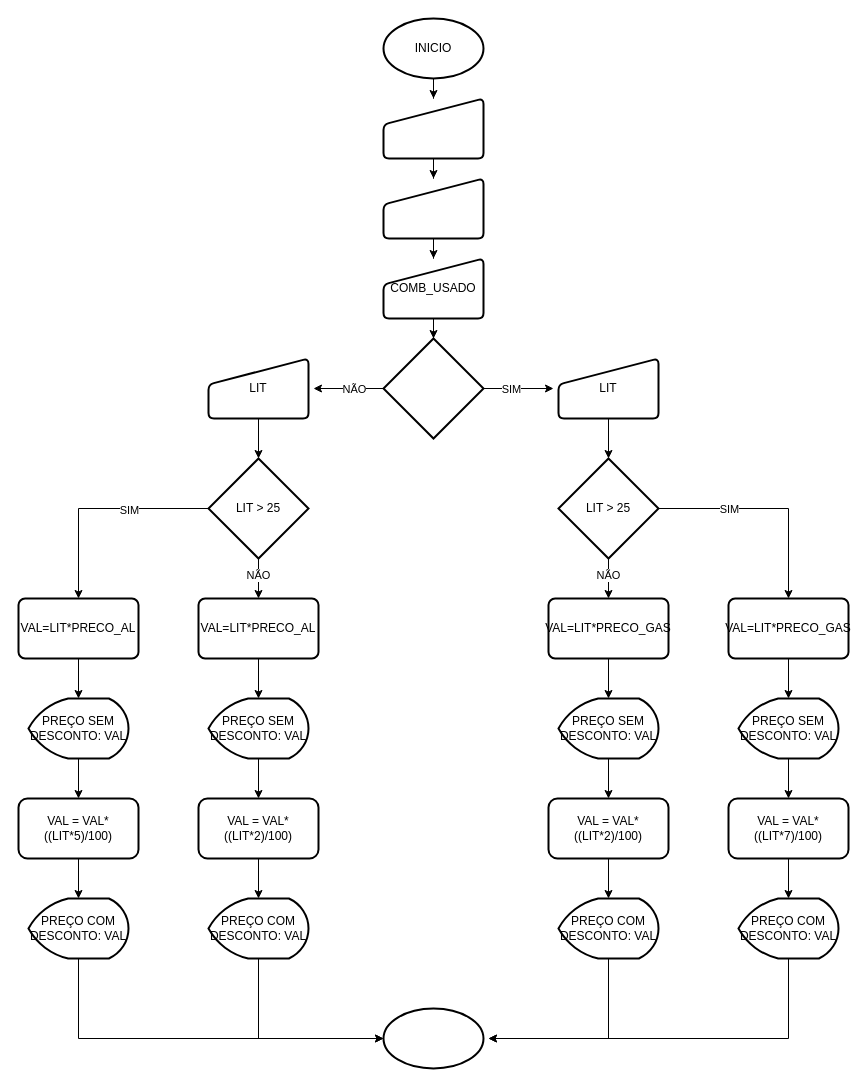
This 868x1086 diagram has some shape labels left out. Each missing label, with the centre of its shape:
"COMB_USADO = GAS" goes at point 433,388.
"FIM" goes at point 433,1038.
"PRECO_AL" goes at point 433,208.
"PRECO_GAS" goes at point 433,128.
